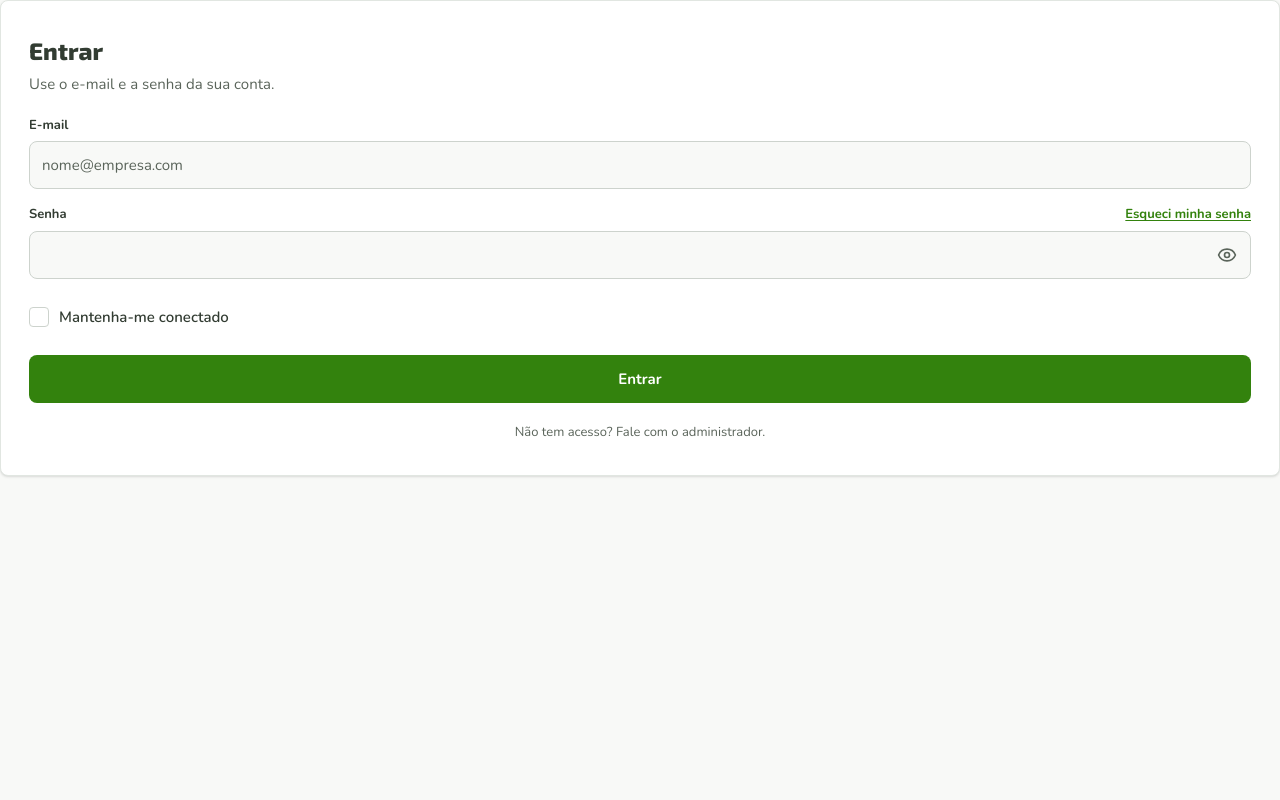
LoginForm › shows the API message on 429 without Retry-After
Step 1. Type "a@b.co" into the field labelled "E-mail" → {"x": 640, "y": 165}, box [29, 141, 1251, 189]
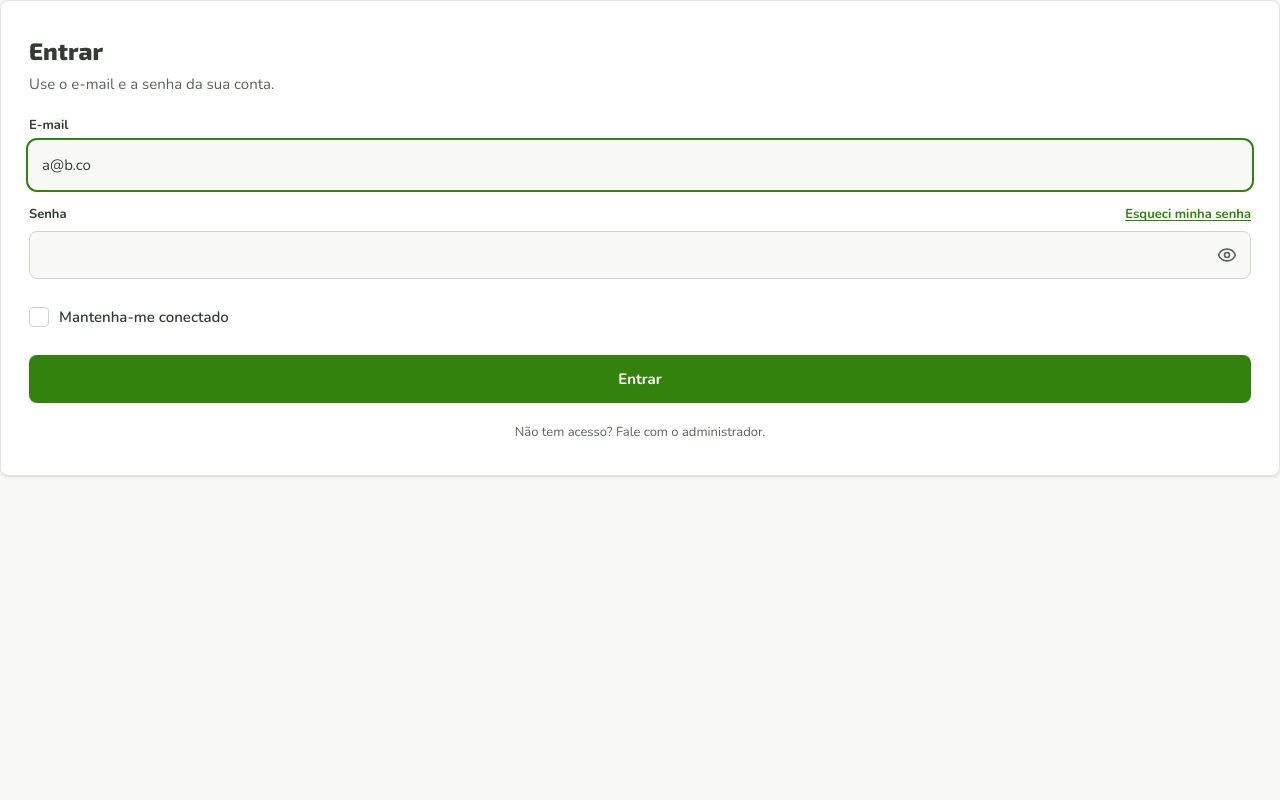
Step 2. Type "secret" into the password field labelled "Senha" → {"x": 640, "y": 255}, box [29, 231, 1251, 279]
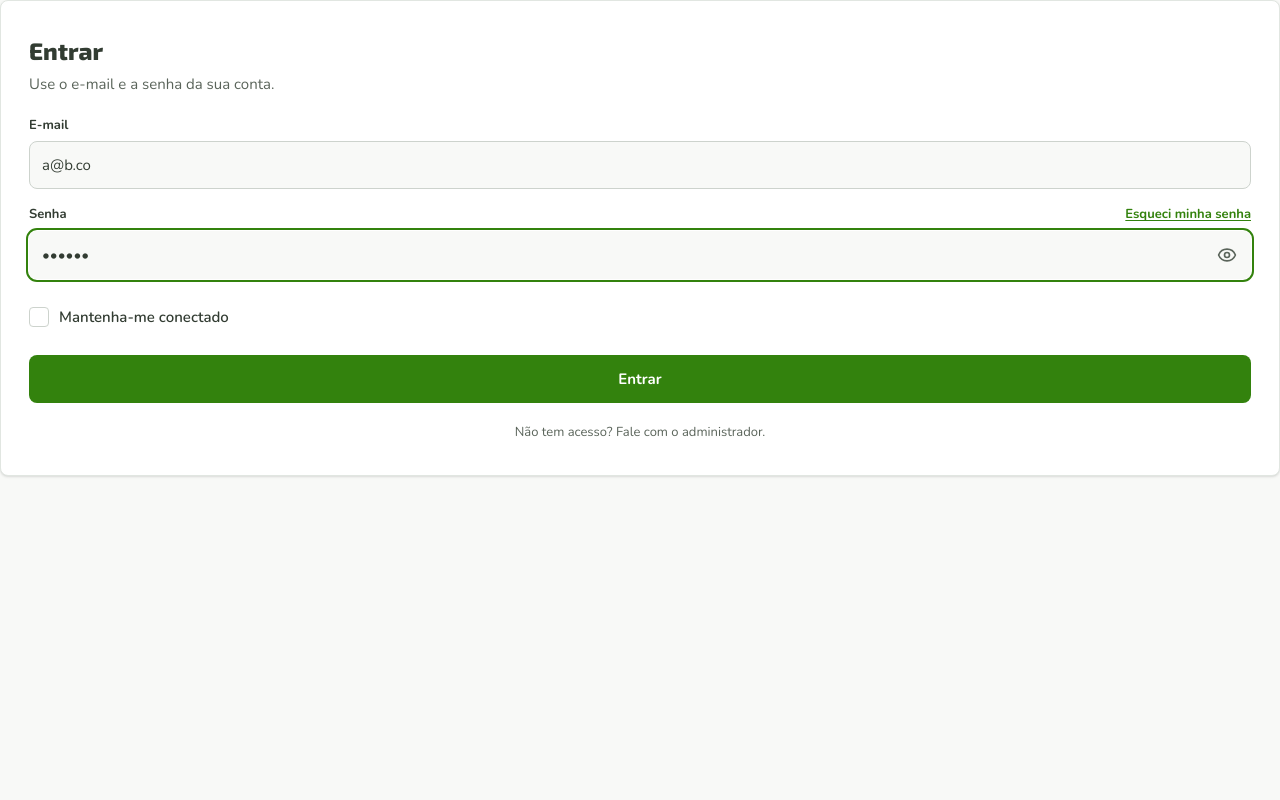
Step 3. Click the button "Entrar" → {"x": 640, "y": 379}, box [29, 355, 1251, 403]
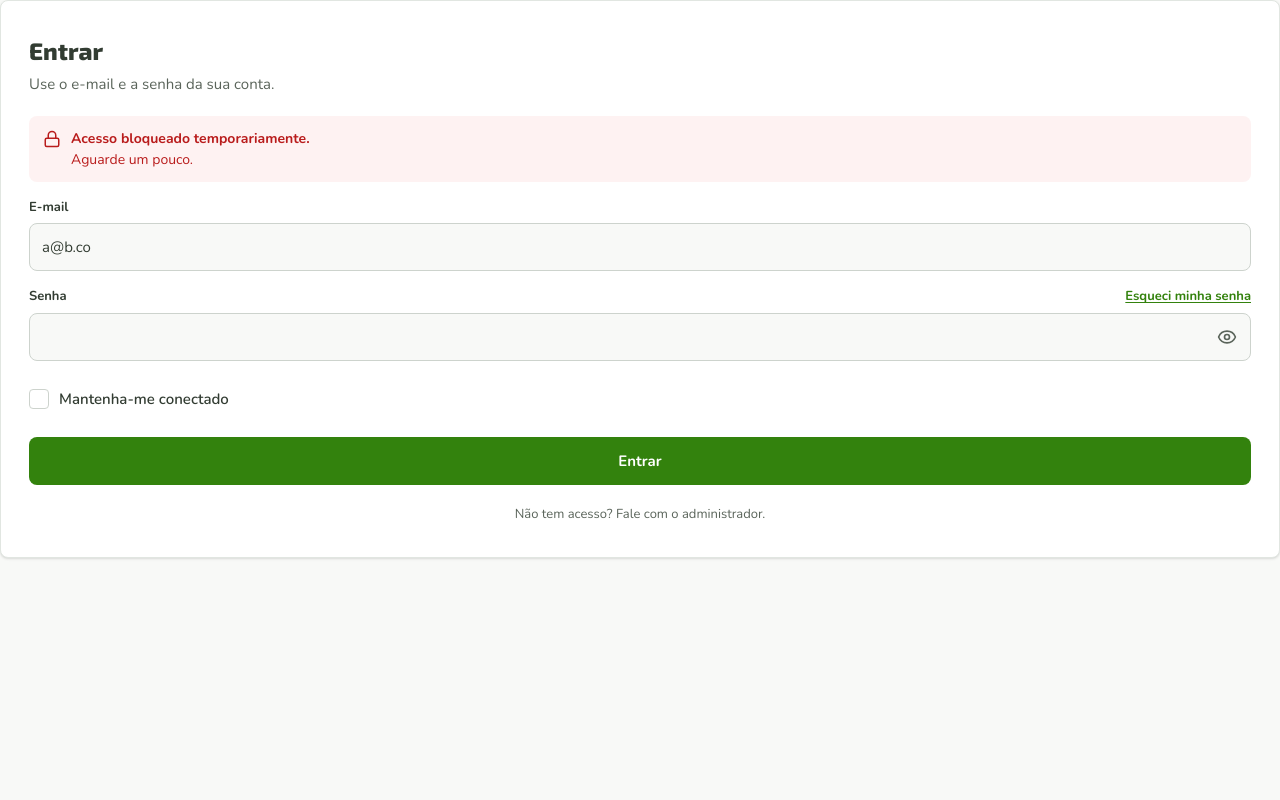
Expected: the button "Entrar" is enabled, [29, 437, 1251, 485]
Result: the text "Acesso bloqueado temporariamente.Aguarde um pouco." is shown at [71, 128, 310, 170]
